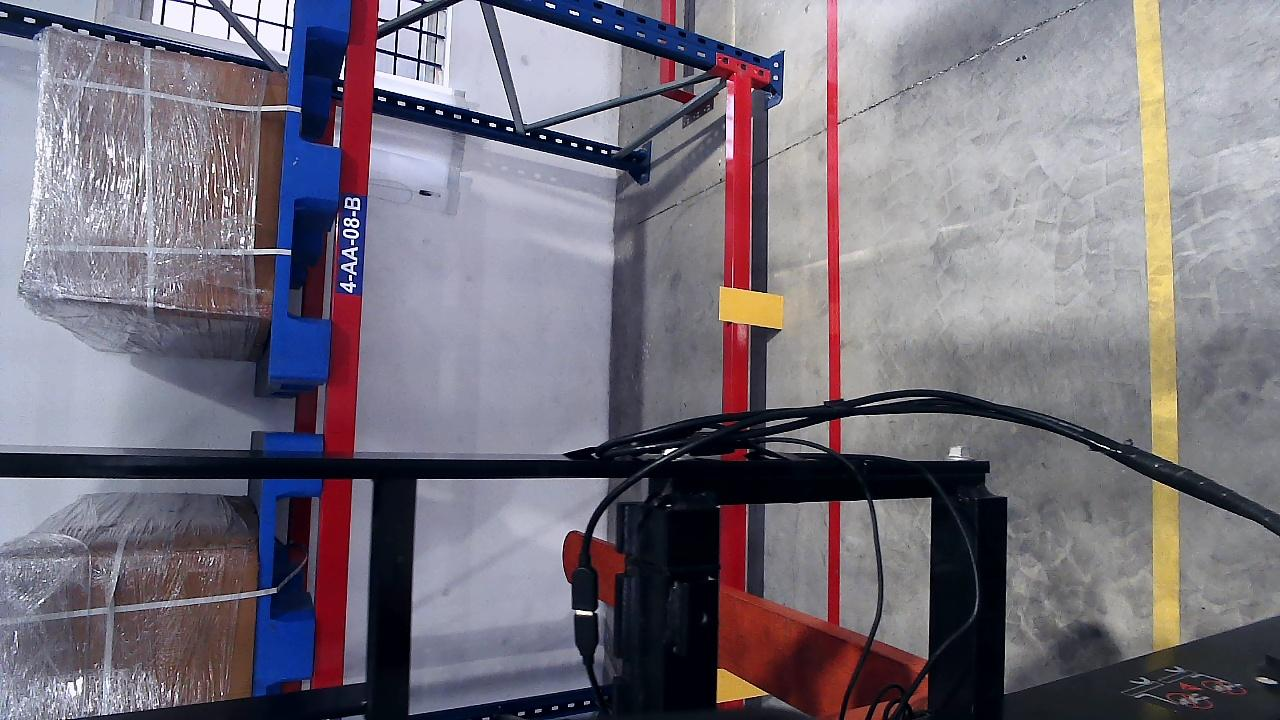h_rack: (337, 0, 370, 555), (728, 77, 757, 413)
orange_strip: (719, 285, 784, 328)
red_line: (822, 74, 844, 402)
small_pallet: (272, 0, 350, 378)
yellow_line: (1133, 0, 1181, 461), (1152, 441, 1182, 650)
